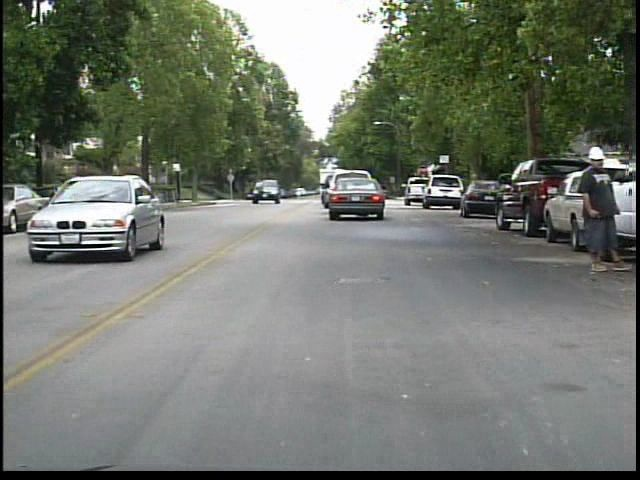person: (572, 143, 628, 274)
